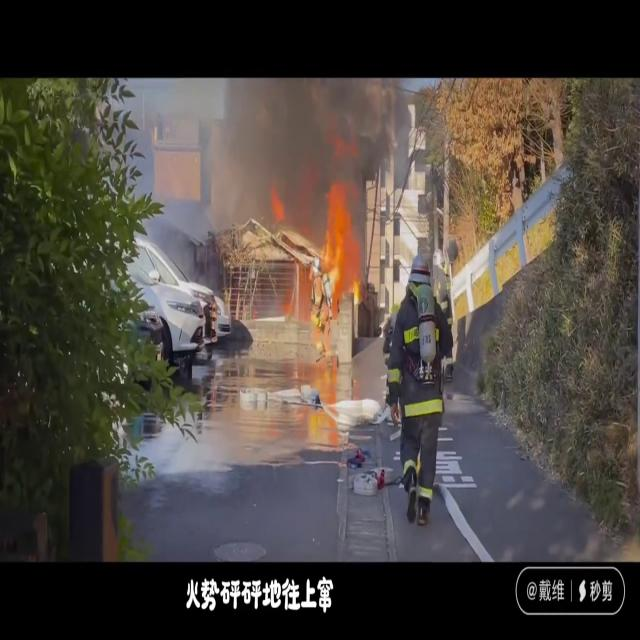Fire: (311, 224, 359, 329)
Smoke: (157, 80, 406, 208)
